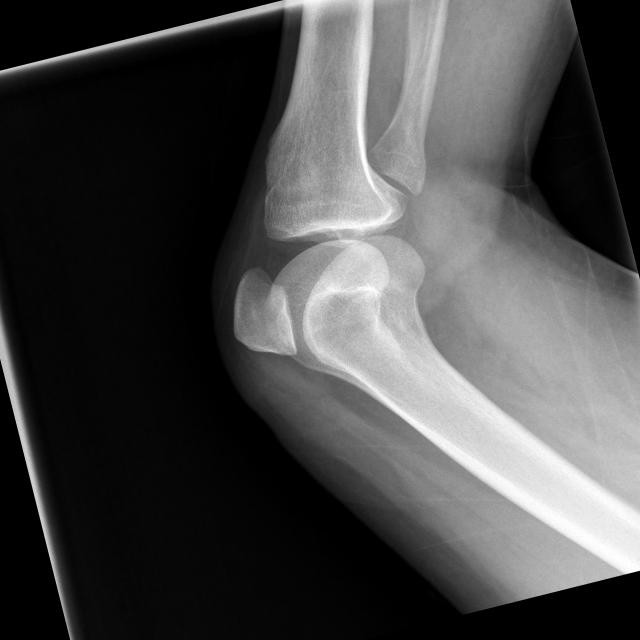Knee: (194, 142, 442, 383)
